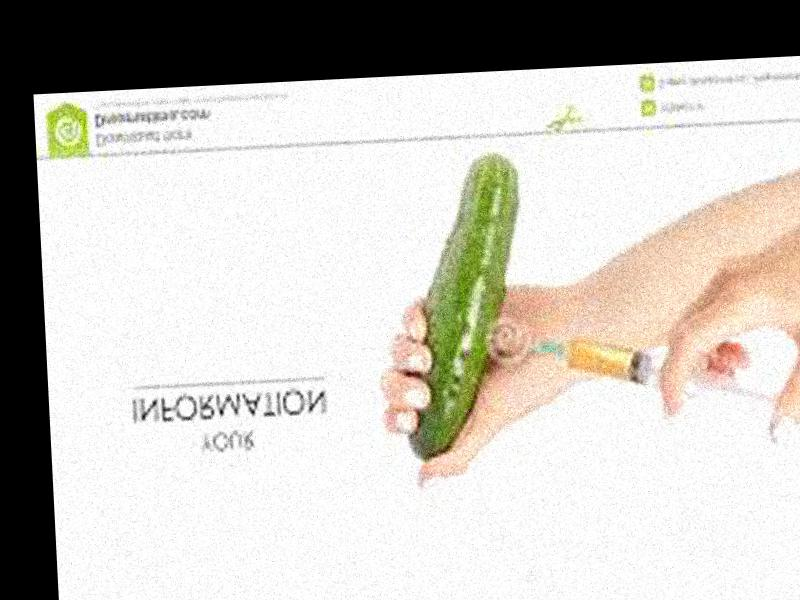Cucumber: (395, 152, 532, 461)
